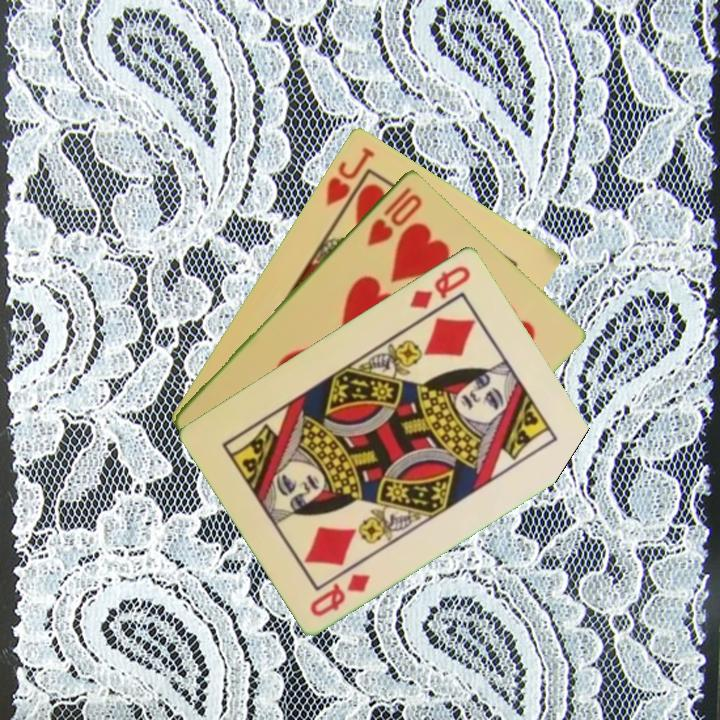10h: (363, 183, 425, 248)
Jh: (322, 143, 378, 209)
Qd: (406, 261, 474, 311), (306, 569, 374, 619)
